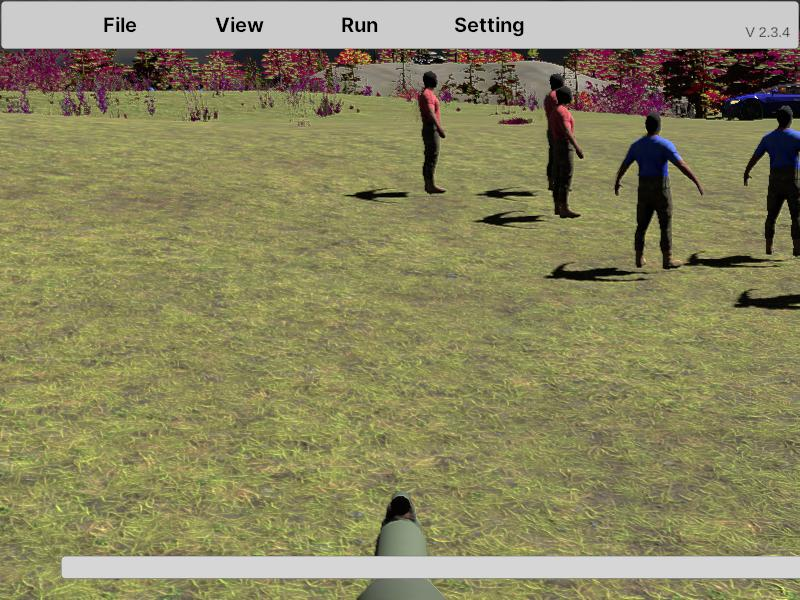Human: (614, 112, 703, 271), (743, 107, 800, 258), (552, 86, 584, 217), (420, 70, 446, 195)
car: (722, 84, 800, 121)
